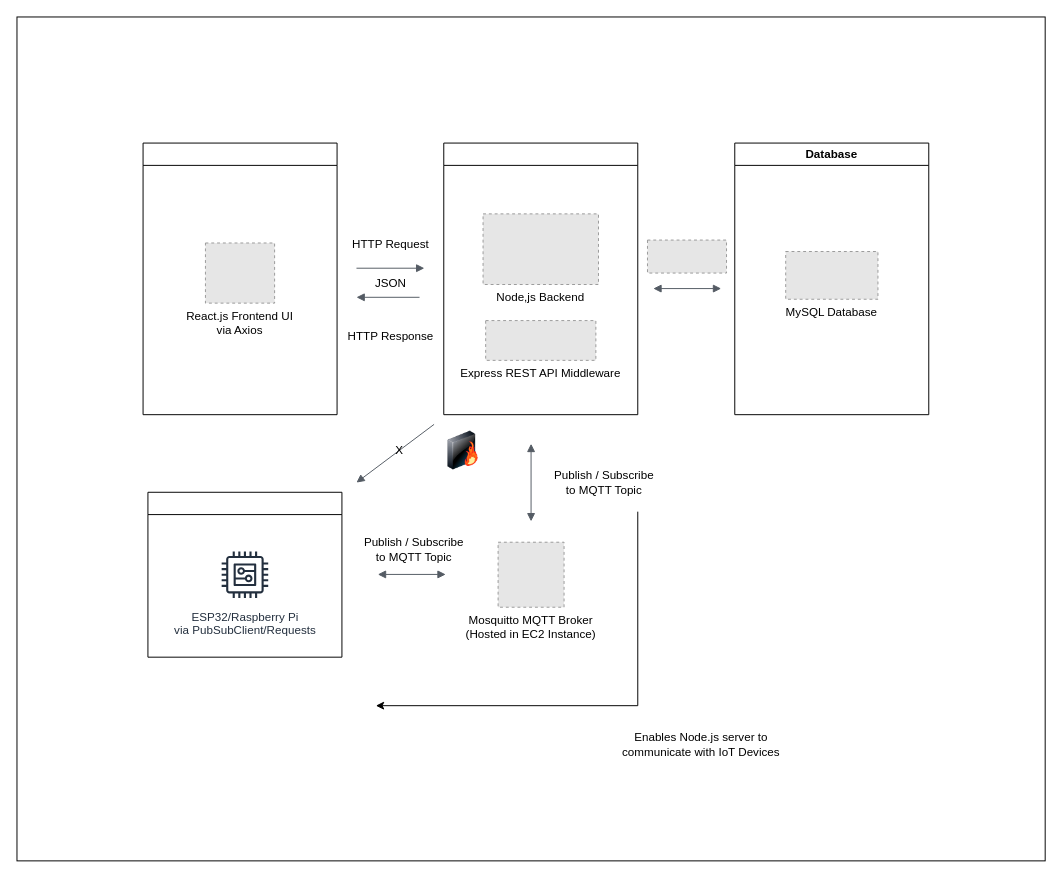
The diagram is 1062 pixels wide and 878 high, and some of its shapes have lost their labels. Grey dashed boxes stand in for pictures. The box of each missing label's shape, as (x1, y1, x2, y2) in pixels:
Client-Side: (142, 142, 337, 415)
Devices hidden behind firewall/router: (438, 431, 487, 469)
IoT Devices: (147, 491, 342, 657)
Server-Side: (443, 142, 638, 415)
